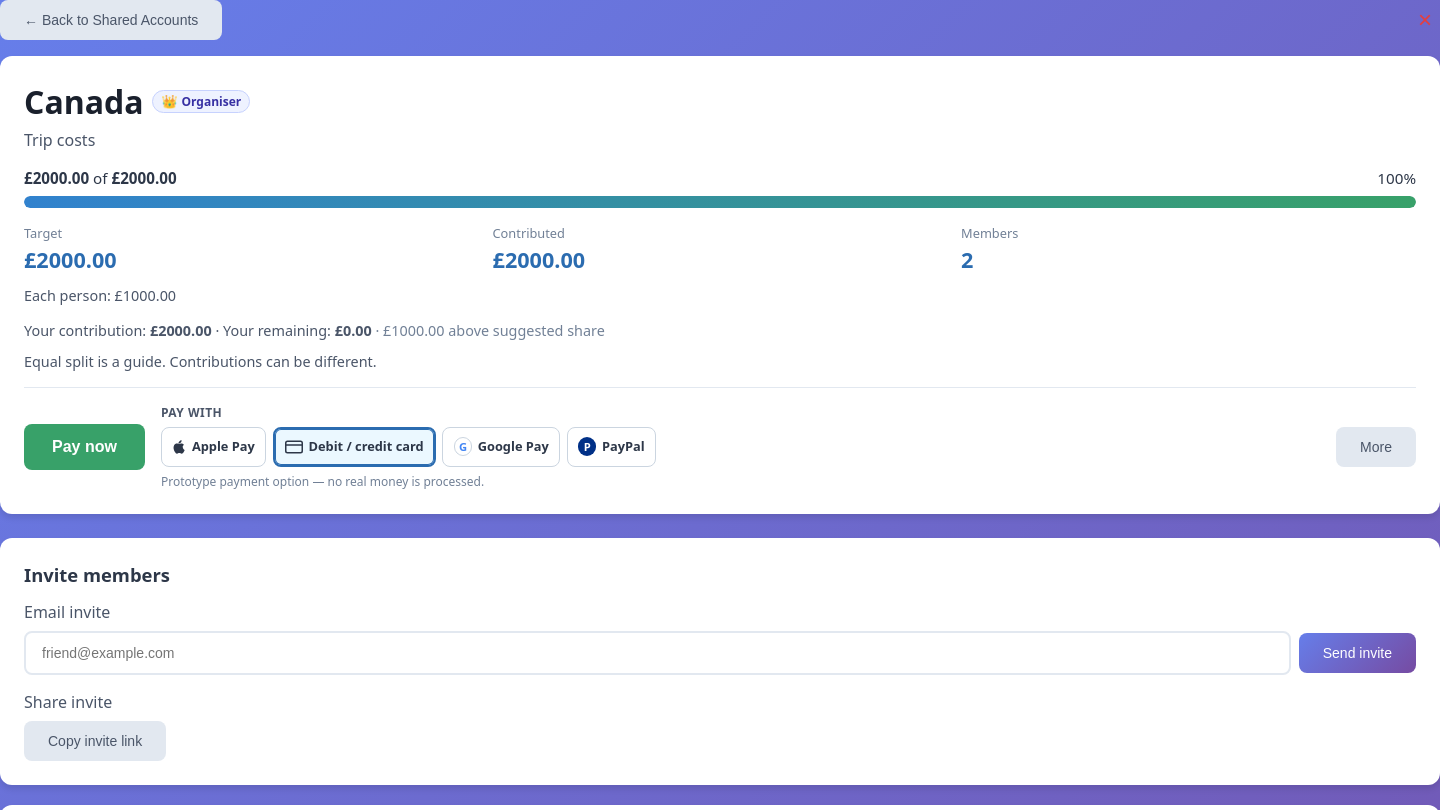
Test: SharedAccountDetail final payment › opens the Pay single payment form from Pay now without executing a payment
Step 1. Click the button "Pay now" → [84, 447], box x1=24 y1=424 x2=145 y2=470
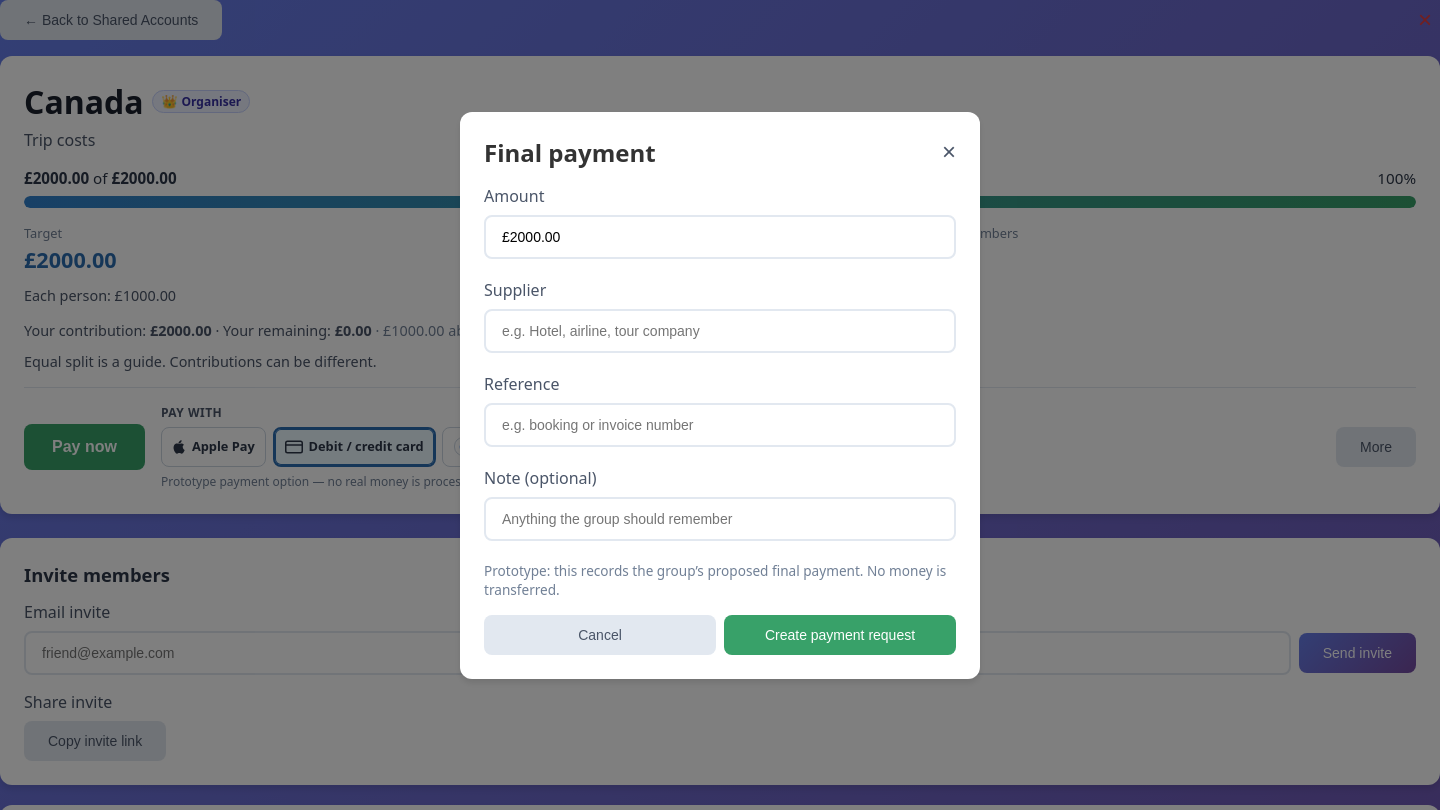
Check: the heading "Final payment" is shown, box x1=484 y1=136 x2=656 y2=168
Check: the field labelled "Amount" holds "£2000.00", box x1=484 y1=214 x2=956 y2=258
Check: the text "Prototype: this records the group’s proposed final payment" is shown, box x1=484 y1=560 x2=946 y2=598
